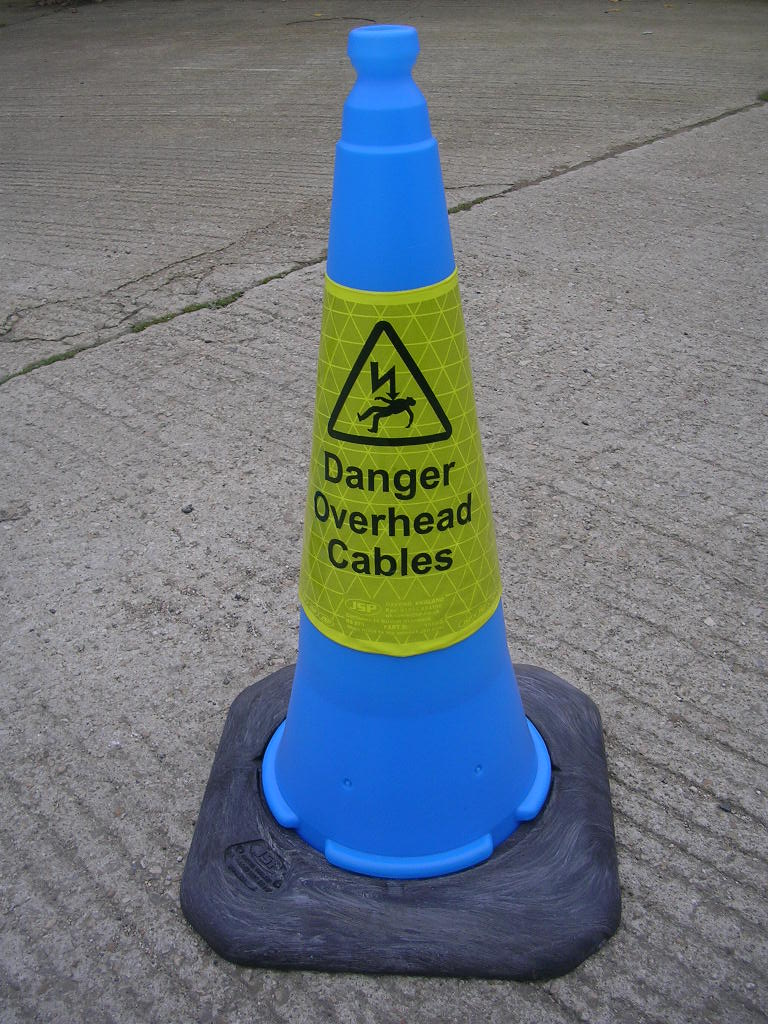cone: (177, 20, 650, 986)
